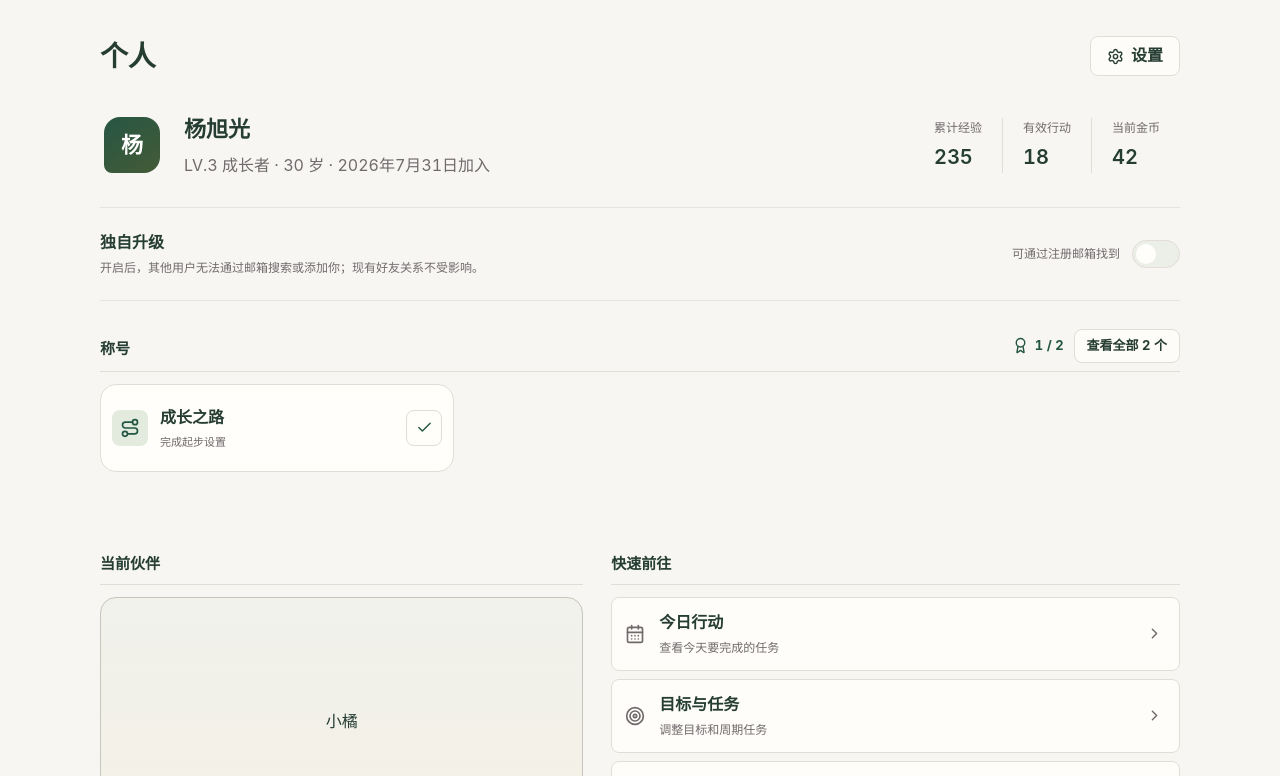
Scenario: Personal profile › enables solo growth from the profile privacy switch
Click the switch named "开启独自升级". click: point(1156, 254)
box: [1132, 240, 1180, 268]
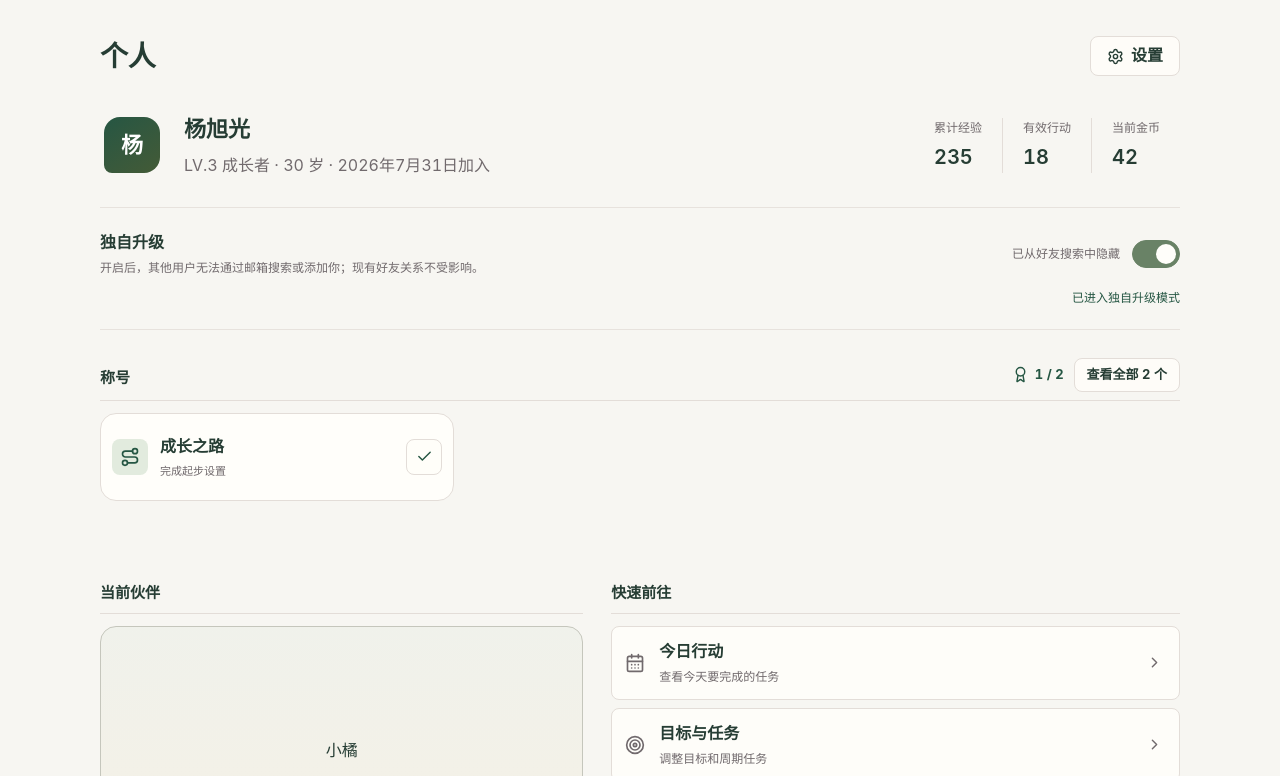
Expected: the text "已进入独自升级模式" is shown, [1072, 290, 1180, 305]
Expected: the text "已从好友搜索中隐藏" is shown, [1012, 244, 1120, 263]
